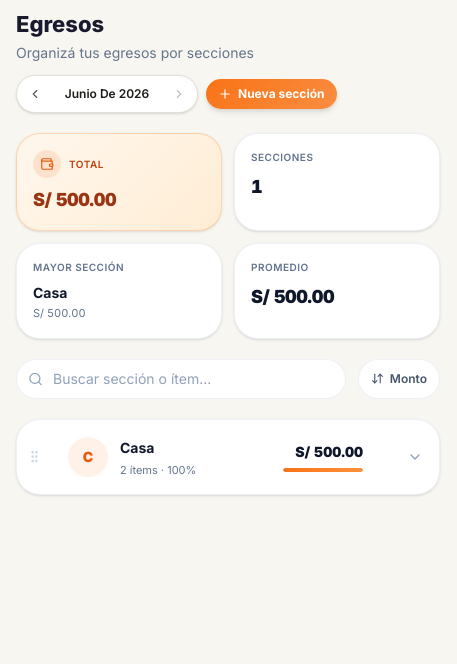
should PresupuestoView › should display existing gastos from localStorage
// Expand the category accordion
Click the button with test id "categoria-header".
click(88, 457)  # box [52,420,439,494]
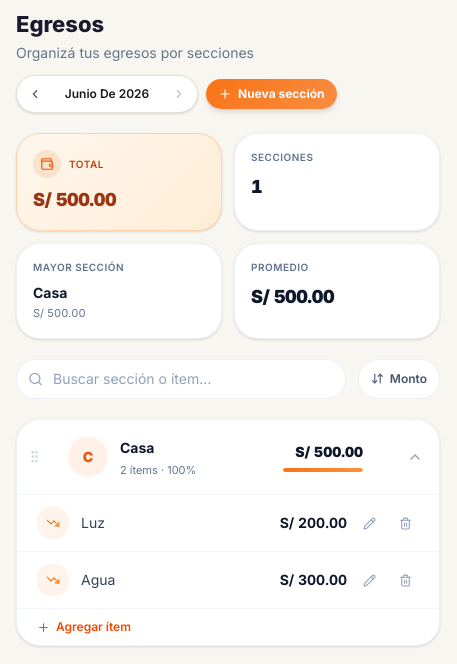
Expected: the element with test id "gastos-list" is shown, [17,495,439,608]
Expected: the number of elements with test id "gasto-item" is 2, [17,495,439,552]; [37,564,419,596]
